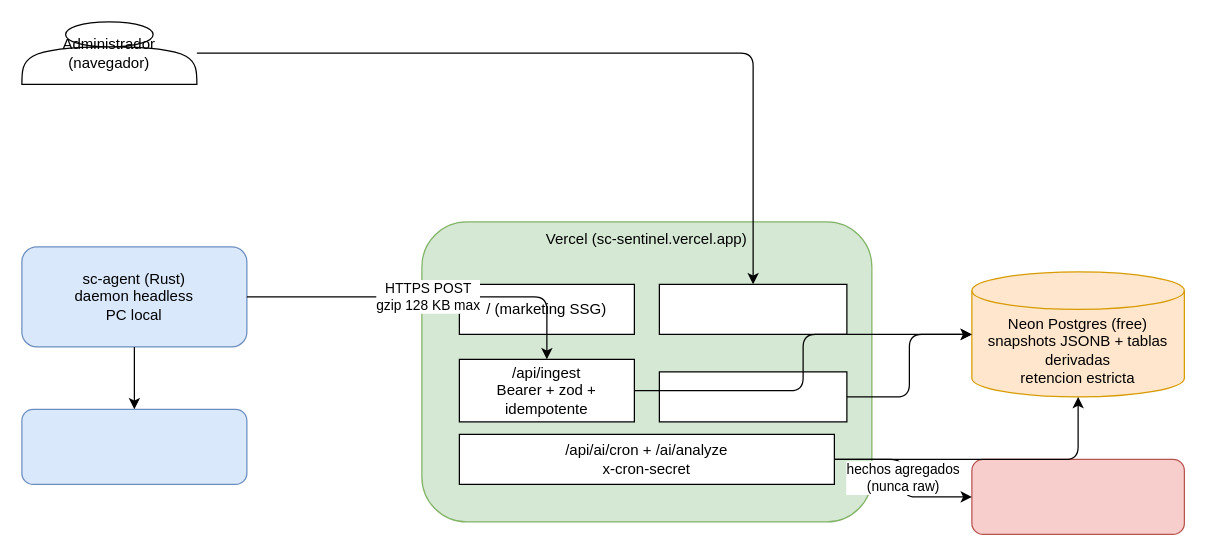
The diagram is 1206 pixels wide and 556 high, and some of its shapes have lost their labels. Here are the shapes that lost their labels. From the top down, the centre of each, then its label:
pixel 752 308: /dashboard (cookie admin)
pixel 752 396: /api/query SWR 5 s
pixel 134 446: Spool SQLite (500 MB / 7 d FIFO)
pixel 1077 496: Cadena IA (free) Gemini → OpenRouter → Groq
